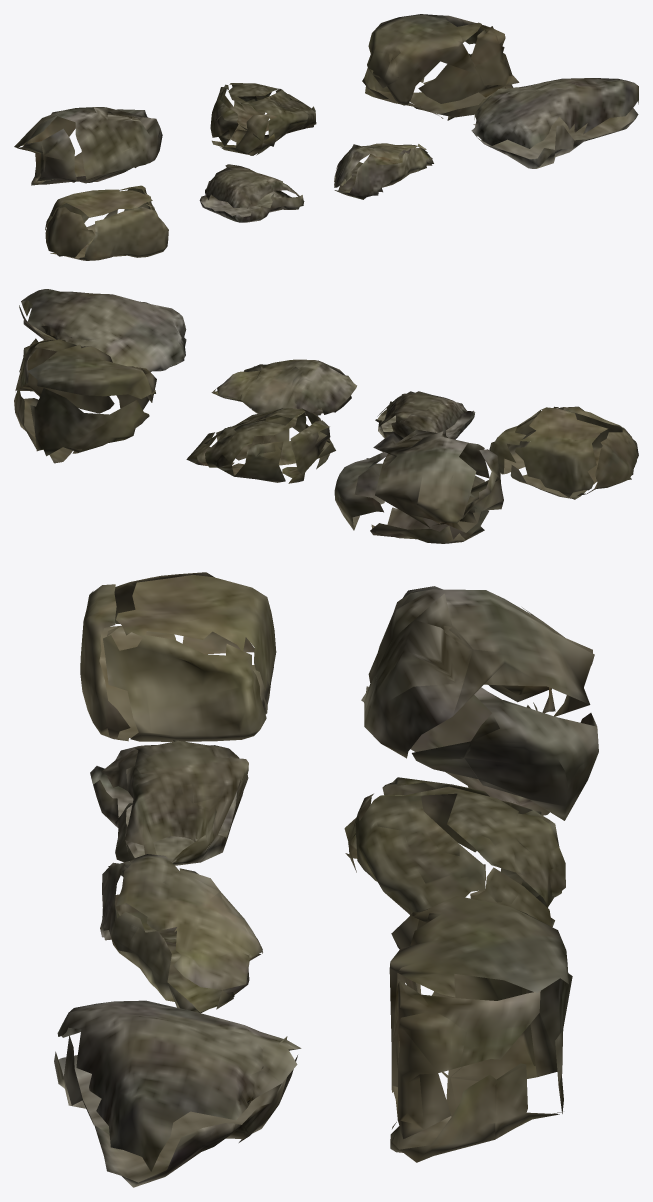
The model's file is rock_moss_set_02.glb.
3 views of the same model, one above another, from view 1: azimuth 30°, elevation 25°; view 2: azimuth 150°, elevation 25°; view 3: azimuth 270°, elevation 25° (orthographic). The views are drawn at different scales.
Visible parts, largest first — view 1: rock_moss_set_02_rock13, rock_moss_set_02_rock10, rock_moss_set_02_rock11, rock_moss_set_02_rock07, rock_moss_set_02_rock12, rock_moss_set_02_rock08, rock_moss_set_02_rock09; view 2: rock_moss_set_02_rock11, rock_moss_set_02_rock13, rock_moss_set_02_rock07, rock_moss_set_02_rock10, rock_moss_set_02_rock12, rock_moss_set_02_rock09, rock_moss_set_02_rock08; view 3: rock_moss_set_02_rock13, rock_moss_set_02_rock11, rock_moss_set_02_rock10, rock_moss_set_02_rock07, rock_moss_set_02_rock12, rock_moss_set_02_rock09, rock_moss_set_02_rock08.
Part boxes in pixels (x1,y1,x2,y2): rock_moss_set_02_rock13: [362, 14, 519, 120]; rock_moss_set_02_rock10: [471, 78, 638, 168]; rock_moss_set_02_rock11: [14, 107, 162, 185]; rock_moss_set_02_rock07: [45, 185, 168, 260]; rock_moss_set_02_rock12: [210, 83, 316, 155]; rock_moss_set_02_rock08: [199, 164, 304, 222]; rock_moss_set_02_rock09: [334, 143, 433, 199]; rock_moss_set_02_rock11: [334, 429, 503, 543]; rock_moss_set_02_rock13: [14, 338, 156, 463]; rock_moss_set_02_rock07: [489, 406, 638, 499]; rock_moss_set_02_rock10: [19, 289, 186, 372]; rock_moss_set_02_rock12: [186, 408, 335, 483]; rock_moss_set_02_rock09: [211, 359, 356, 415]; rock_moss_set_02_rock08: [375, 391, 475, 439]; rock_moss_set_02_rock13: [389, 896, 572, 1162]; rock_moss_set_02_rock11: [361, 586, 598, 820]; rock_moss_set_02_rock10: [54, 1000, 301, 1187]; rock_moss_set_02_rock07: [80, 572, 276, 741]; rock_moss_set_02_rock12: [344, 777, 565, 927]; rock_moss_set_02_rock09: [100, 854, 262, 1013]; rock_moss_set_02_rock08: [90, 740, 248, 865].
Bounding box in the file's own units: 8.25 × 1.31 × 3.32.
Materials: 1 (1 with a texture image).
